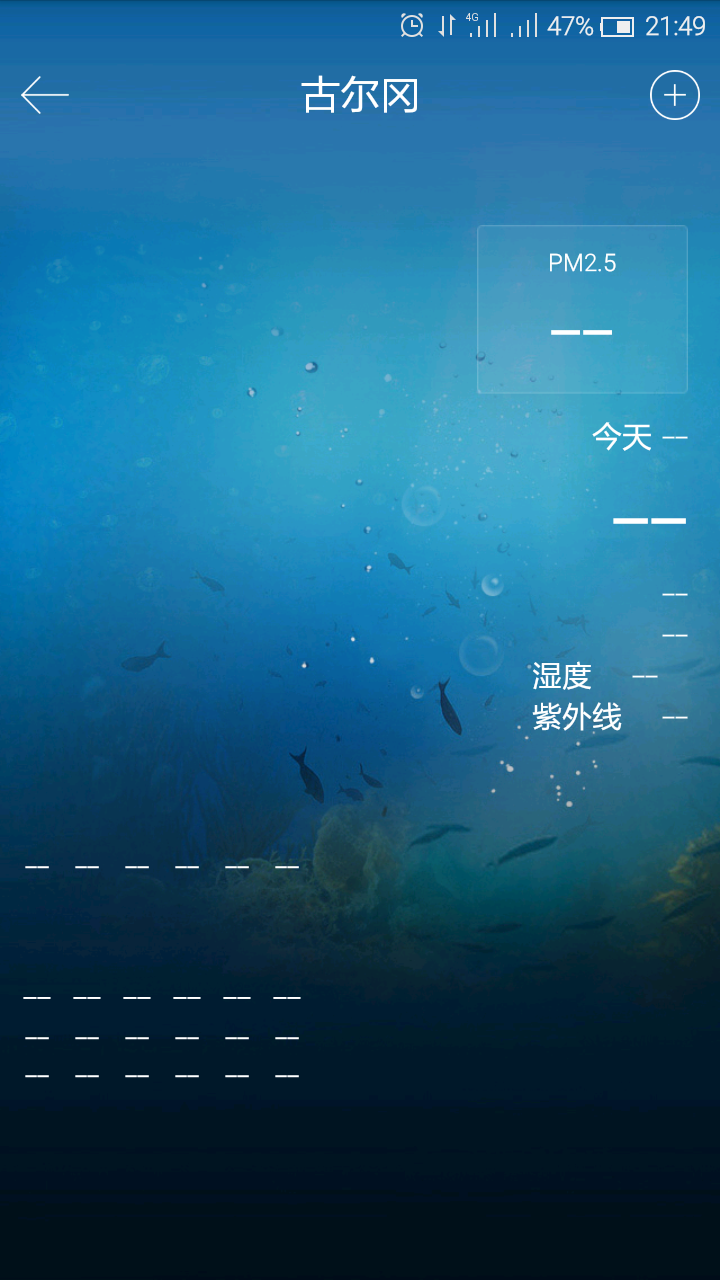textview: (136, 53, 544, 138), (499, 233, 638, 364)
